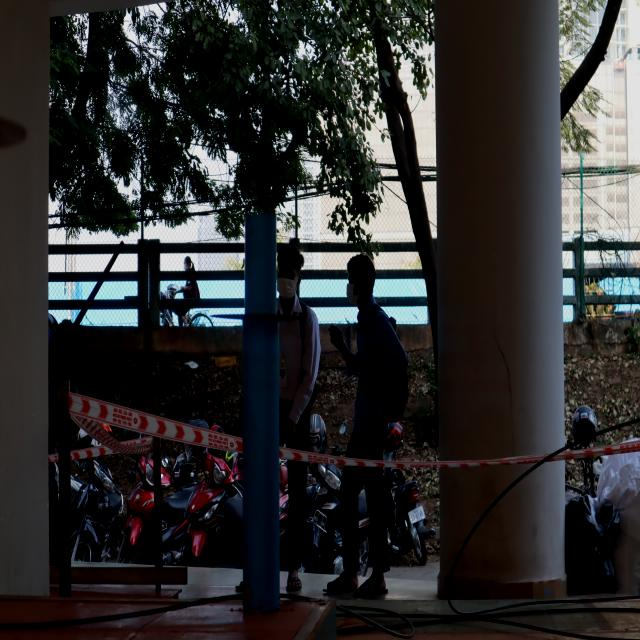pole: (217, 213, 302, 410)
